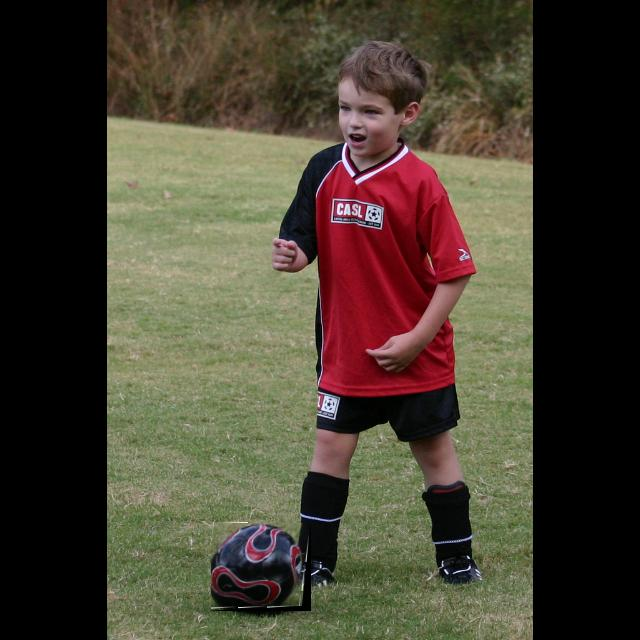Football: (211, 523, 311, 611)
